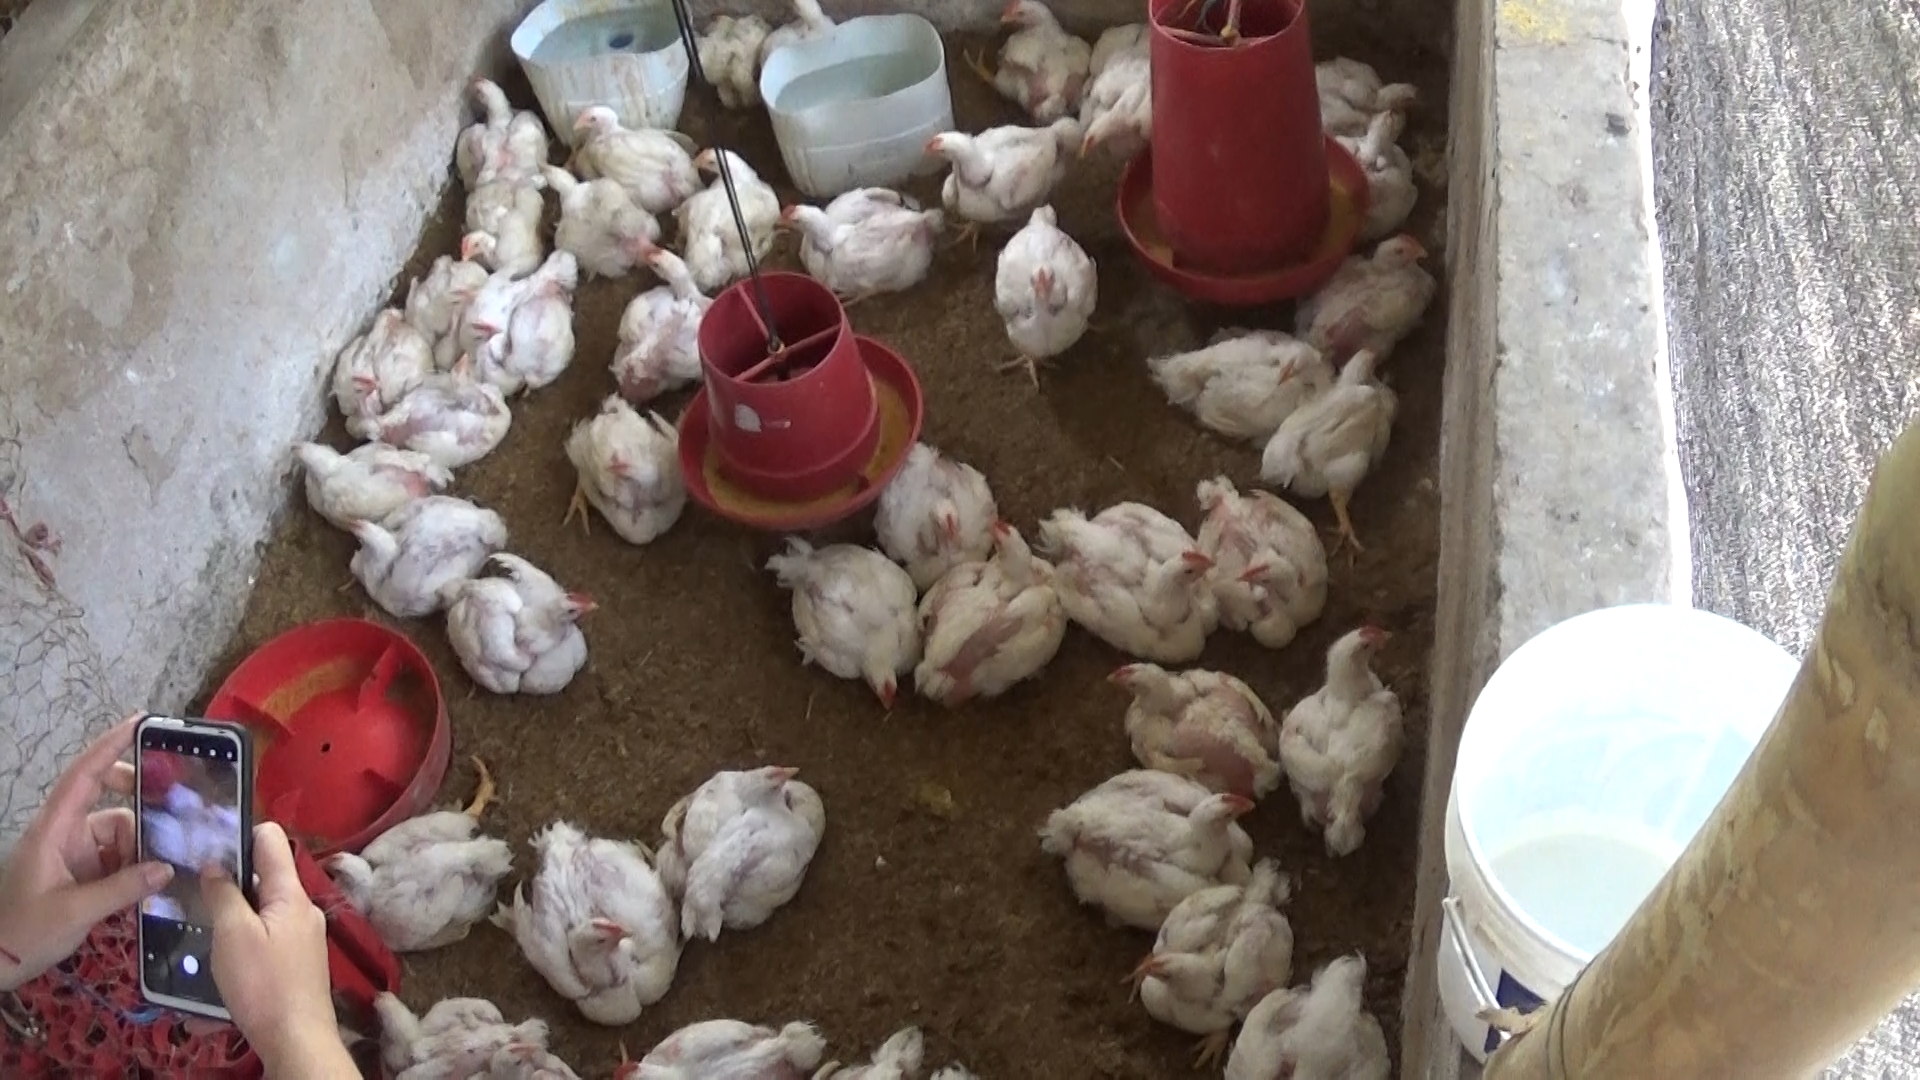Pollos: (1273, 618, 1447, 858), (1026, 752, 1265, 924), (501, 818, 684, 1027), (1130, 862, 1309, 1063), (757, 522, 945, 698), (1051, 488, 1240, 659), (920, 517, 1076, 712), (659, 752, 827, 932), (315, 807, 520, 953), (1258, 343, 1423, 517), (1101, 642, 1276, 794), (440, 542, 603, 705), (1191, 469, 1336, 651), (1225, 948, 1404, 1080), (988, 203, 1106, 390), (1142, 327, 1329, 440), (771, 179, 938, 305), (336, 495, 510, 612), (347, 993, 580, 1080), (443, 245, 587, 386), (555, 396, 694, 538), (870, 431, 1015, 567), (920, 112, 1073, 233), (1294, 229, 1437, 357), (531, 160, 674, 282), (669, 142, 789, 284), (605, 241, 704, 407), (564, 94, 709, 203), (265, 434, 454, 517), (353, 375, 526, 464), (1051, 17, 1151, 170), (961, 0, 1092, 117), (439, 165, 568, 272), (375, 222, 488, 331), (1307, 46, 1432, 140), (320, 295, 427, 402), (464, 76, 547, 196), (683, 4, 771, 105)
